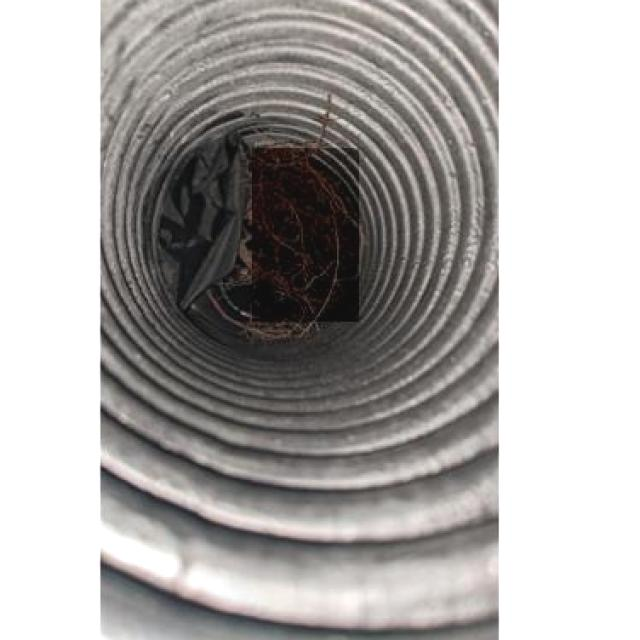block: (169, 153, 237, 292)
root: (227, 182, 318, 344)
